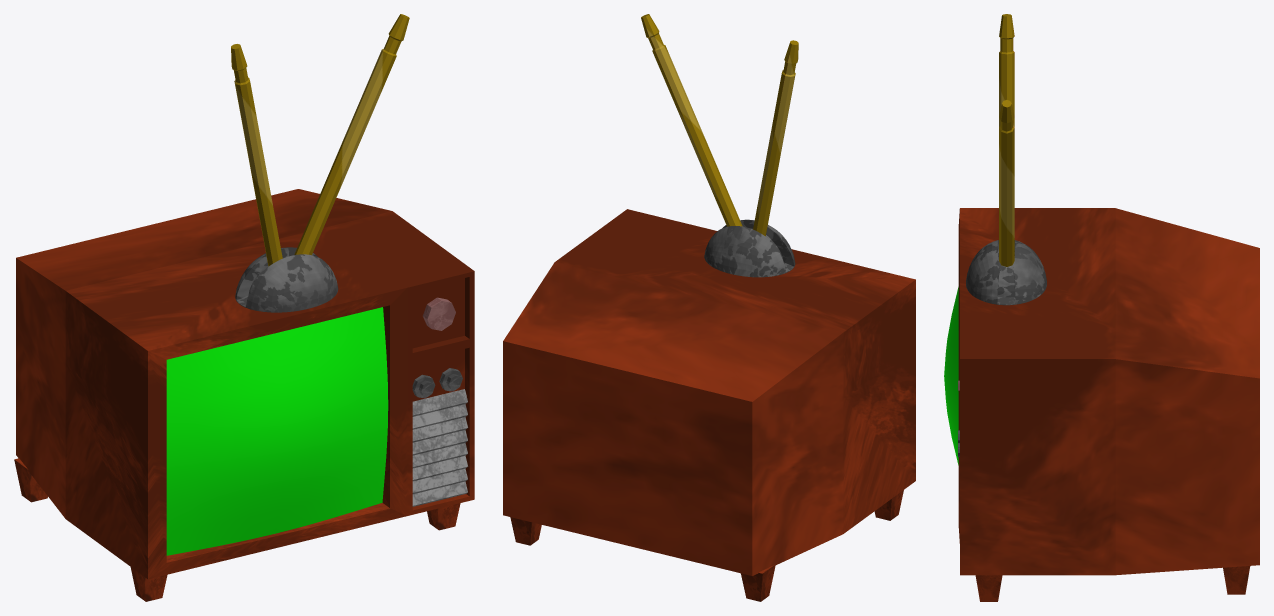
3 views of the same model, side by side, from view 1: azimuth 30°, elevation 25°; view 2: azimuth 150°, elevation 25°; view 3: azimuth 270°, elevation 25° (orthographic). The views are drawn at different scales.
Visible parts, largest first — view 1: TVlisao; view 2: TVlisao; view 3: TVlisao.
Boxes of the visible parts, box(x1,y1,x2,y2) form: TVlisao: box(14, 14, 474, 601); TVlisao: box(503, 14, 915, 601); TVlisao: box(944, 14, 1259, 601).
Size of the model in its own units: 245 by 374 by 217.
2 materials, 1 textured.
